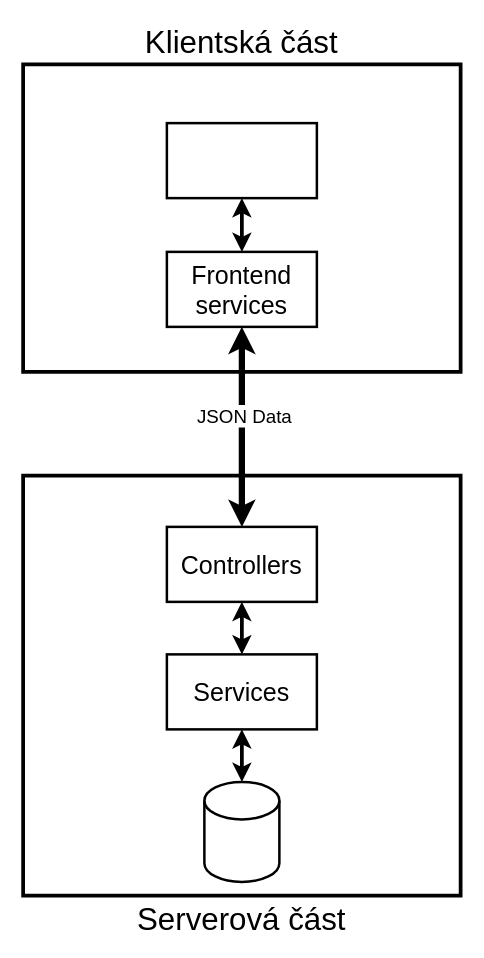
Image size: 484x958. Some labels were removed from this diagram. The shapes that lost their labels are listed below. From the top down, each one's box as (x1, y1, x2, y2) in pixels, then its label:
(165, 121, 318, 199): Components
(202, 780, 280, 882): DB
